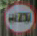Heavy Vehicles: (3, 2, 36, 32)
